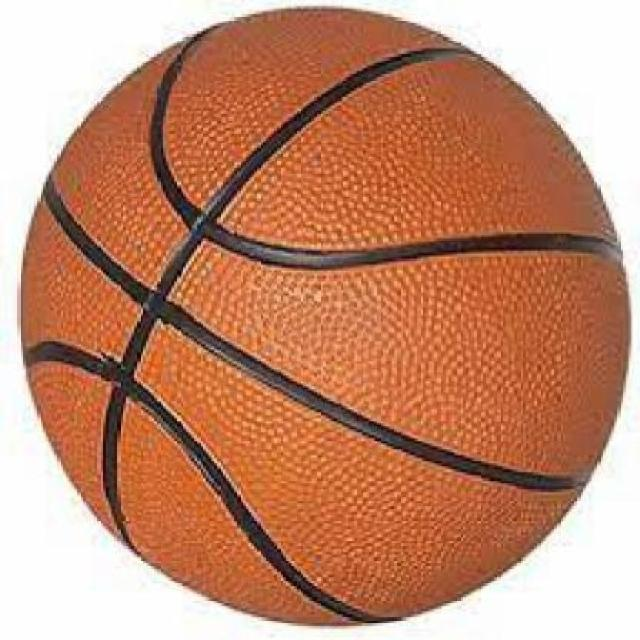ball: (17, 3, 632, 626)
